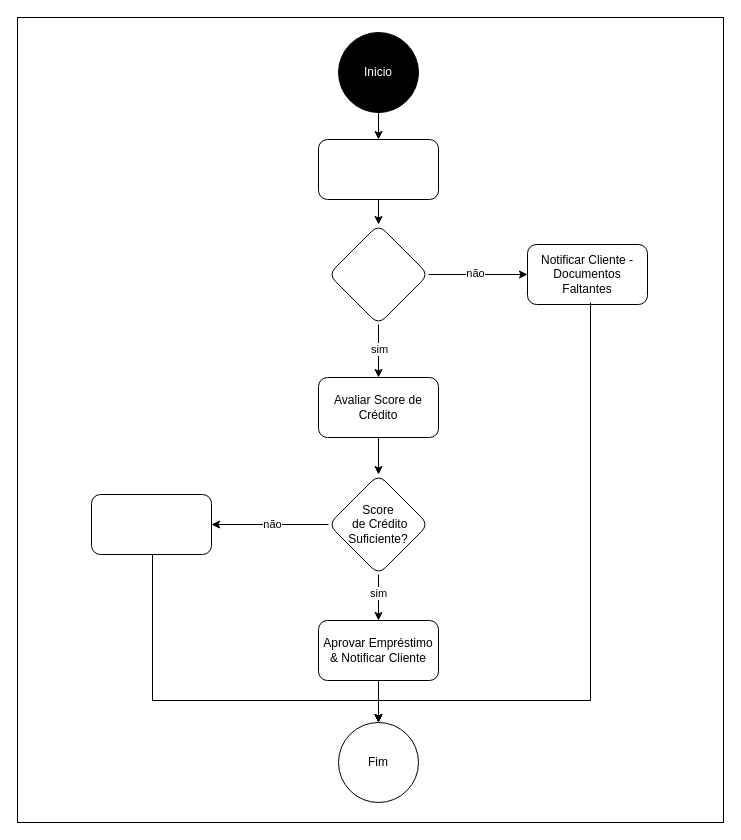
The diagram is 741 pixels wide and 840 high, and some of its shapes have lost their labels. The centre of each missing label's shape, as x and y in pixels:
"Documentos Completos?" goes at [378,274].
"Rejeitar Solicitação & Notificar Cliente" goes at [151,524].
"Submeter Solicitação de Empréstimo" goes at [378,169].
